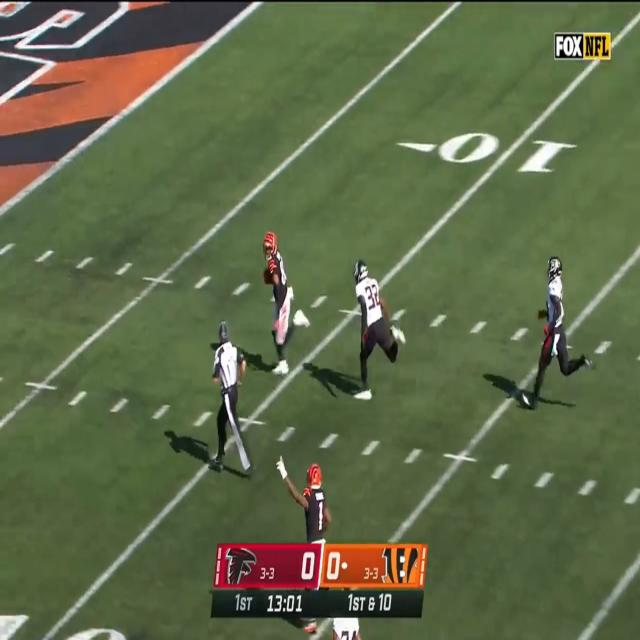Ball: (262, 266, 272, 287)
